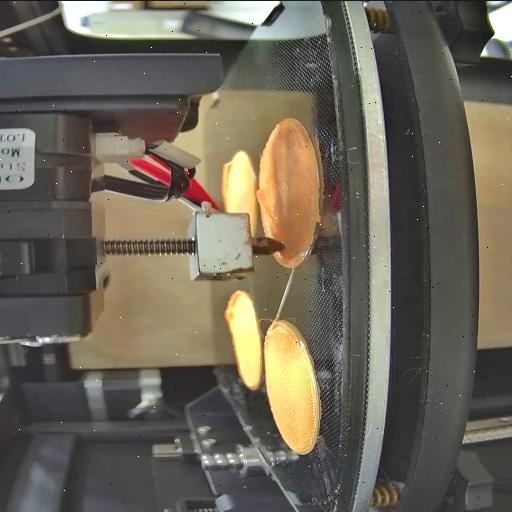over_extrusion: (222, 289, 252, 321), (254, 188, 282, 222), (218, 160, 238, 200)
